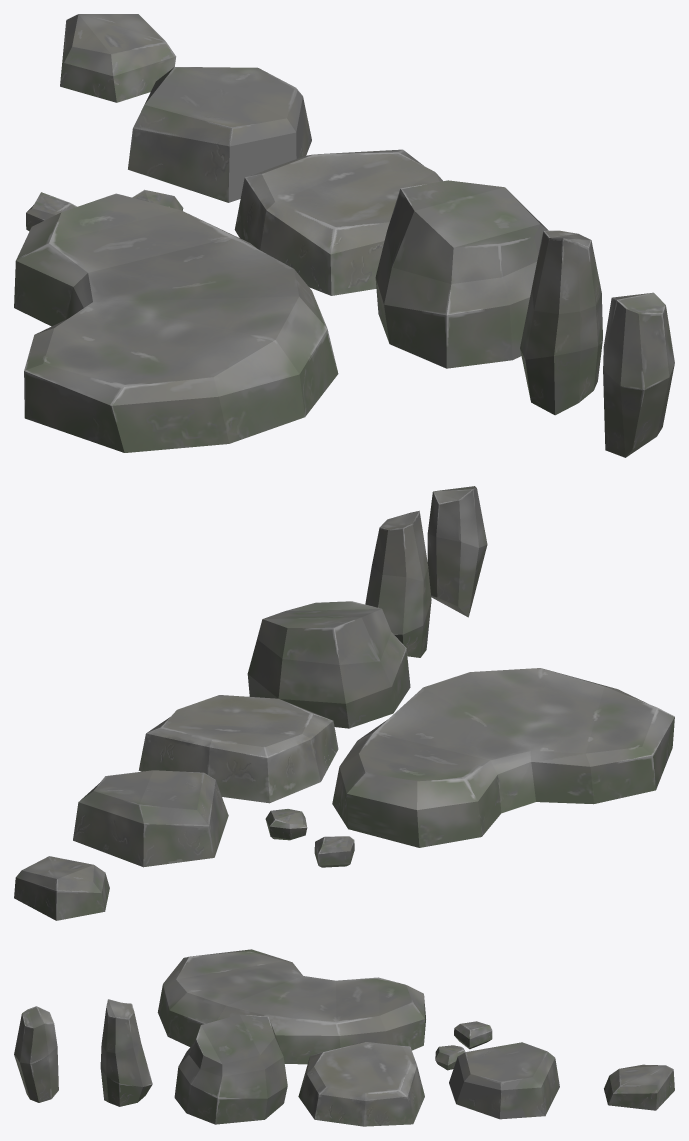
File: rocks_flat.fbx
3 renders of one model, top to bottom at view 1: azimuth 30°, elevation 25°; view 2: azimuth 150°, elevation 25°; view 3: azimuth 270°, elevation 25°, orthographic. The views are drawn at different scales.
Parts seen in each view (by area): view 1: stone_flat_b1, stone_flat_m4, stone_flat_m3, stone_flat_m2, stone_flat_t1, stone_flat_t2, stone_flat_m1, stone_flat_s1; view 2: stone_flat_b1, stone_flat_m4, stone_flat_m3, stone_flat_m2, stone_flat_t1, stone_flat_t2, stone_flat_m1, stone_flat_s1, FlatRocks.002; view 3: stone_flat_b1, stone_flat_m4, stone_flat_m3, stone_flat_m2, stone_flat_t1, stone_flat_t2, stone_flat_m1, stone_flat_s1, FlatRocks.002.
Boxes of the visible parts, left/top/right/bottom form: stone_flat_b1: left=14, top=193, right=338, bottom=452; stone_flat_m4: left=375, top=180, right=548, bottom=368; stone_flat_m3: left=234, top=149, right=442, bottom=295; stone_flat_m2: left=128, top=67, right=311, bottom=202; stone_flat_t1: left=520, top=230, right=602, bottom=415; stone_flat_t2: left=603, top=292, right=674, bottom=457; stone_flat_m1: left=60, top=14, right=176, bottom=102; stone_flat_s1: left=26, top=192, right=76, bottom=231; stone_flat_b1: left=332, top=668, right=674, bottom=847; stone_flat_m4: left=247, top=601, right=410, bottom=728; stone_flat_m3: left=138, top=695, right=338, bottom=803; stone_flat_m2: left=73, top=770, right=228, bottom=867; stone_flat_t1: left=365, top=510, right=431, bottom=657; stone_flat_t2: left=427, top=486, right=487, bottom=617; stone_flat_m1: left=14, top=856, right=109, bottom=920; stone_flat_s1: left=314, top=836, right=354, bottom=867; FlatRocks.002: left=265, top=809, right=307, bottom=840; stone_flat_b1: left=157, top=949, right=425, bottom=1064; stone_flat_m4: left=174, top=1014, right=287, bottom=1124; stone_flat_m3: left=298, top=1041, right=424, bottom=1126; stone_flat_m2: left=449, top=1042, right=559, bottom=1119; stone_flat_t1: left=100, top=999, right=152, bottom=1106; stone_flat_t2: left=14, top=1006, right=58, bottom=1102; stone_flat_m1: left=604, top=1064, right=674, bottom=1110; stone_flat_s1: left=454, top=1021, right=492, bottom=1049; FlatRocks.002: left=435, top=1045, right=465, bottom=1070.
Size of the model in its own units: 593 by 189 by 1094.
